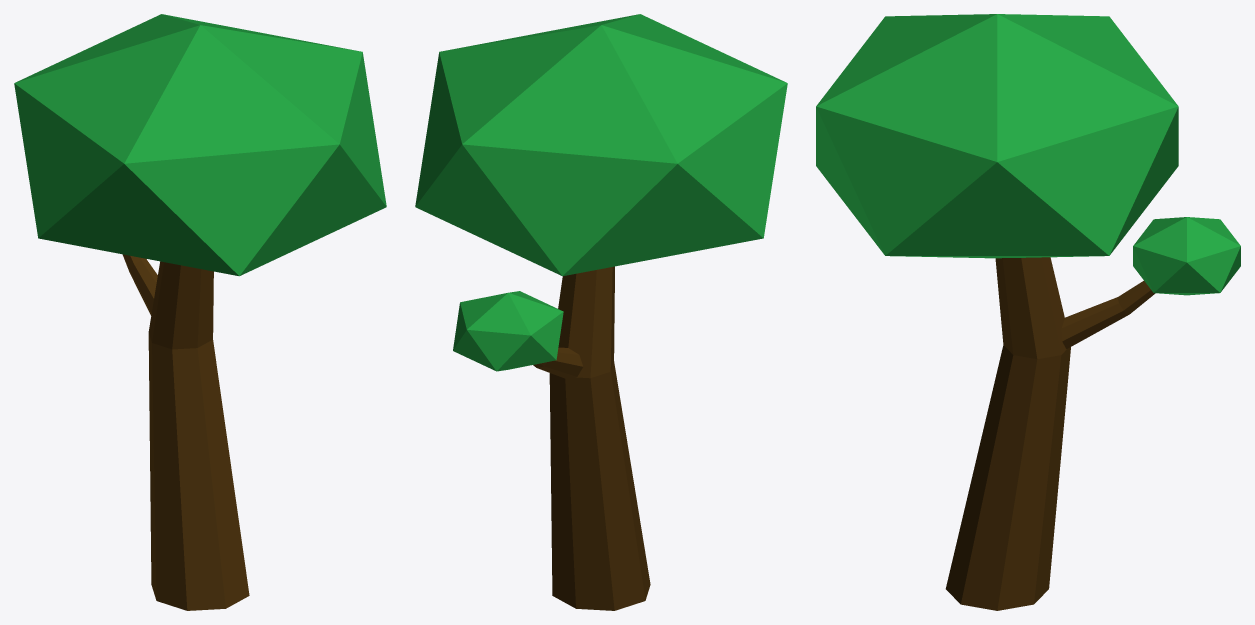
The model's file is tree002.fbx.
3 views of the same model, side by side, from view 1: azimuth 30°, elevation 25°; view 2: azimuth 150°, elevation 25°; view 3: azimuth 270°, elevation 25° (orthographic).
Visible parts, largest first — view 1: Icosphere; view 2: Icosphere; view 3: Icosphere.
Part boxes in pixels (bbox=[...]): Icosphere: bbox=[14, 14, 386, 610]; Icosphere: bbox=[415, 14, 787, 610]; Icosphere: bbox=[816, 14, 1240, 610].
Size of the model in its own units: 737 by 1227 by 822.
